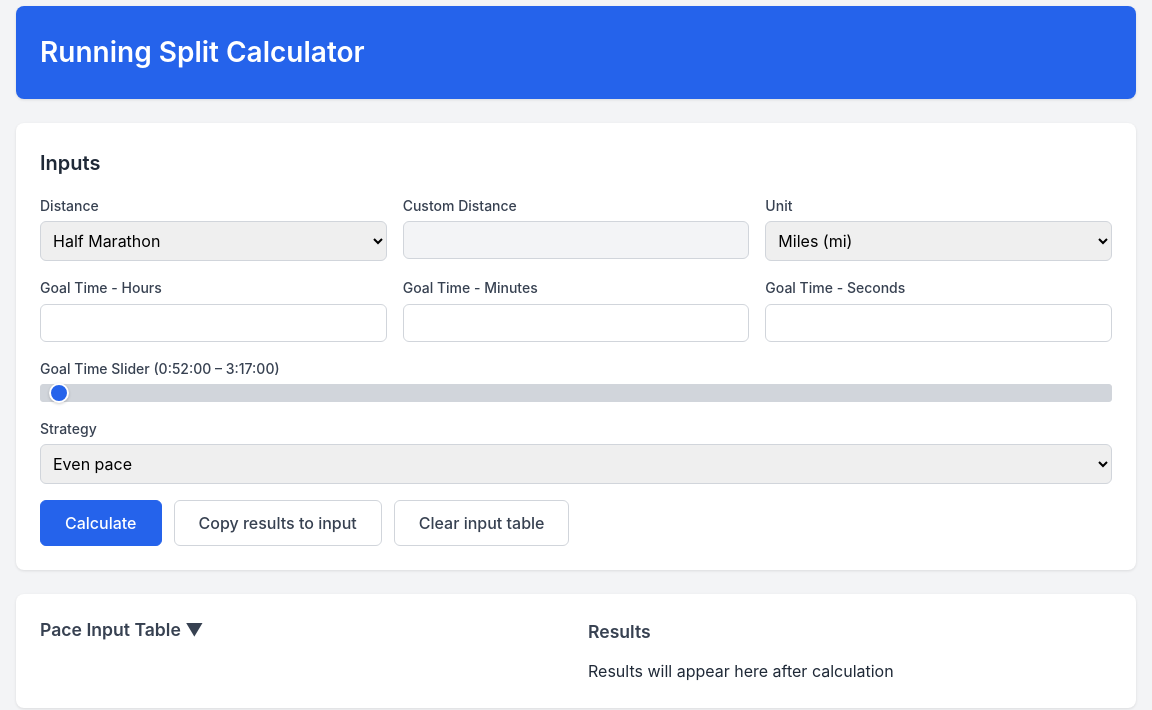
Scenario: UI Input Table › should display split labels
The width and height of the screenshot is (1152, 710).
Select "Kilometers (km)" in the dropdown labelled "Unit": (939, 241) 765,221 -> 1112,261
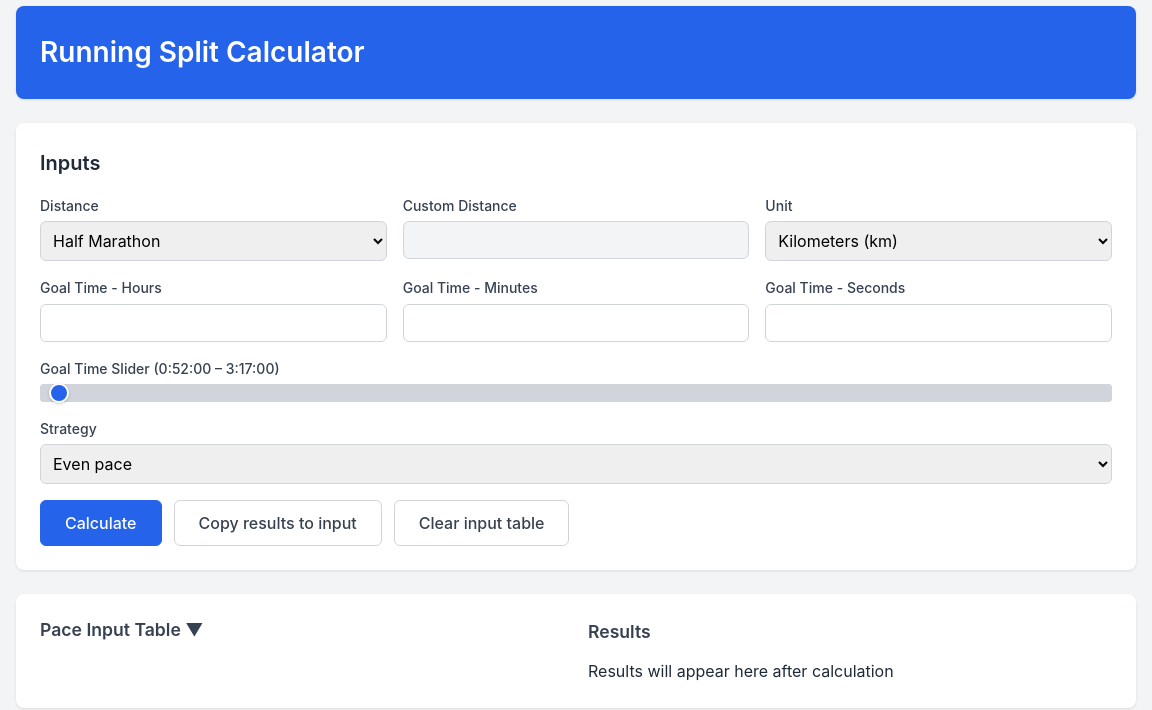
Select "5K" in the dropdown labelled "Distance": (213, 241) 40,221 -> 387,261
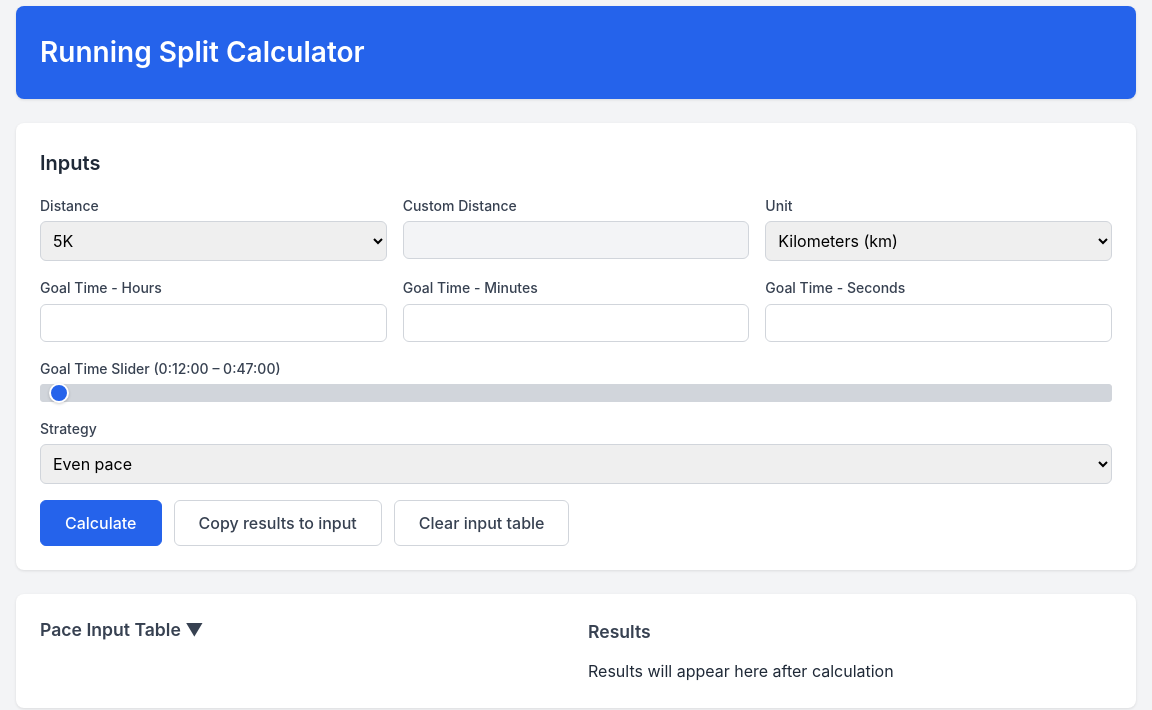
Click the button "Pace Input Table ▼": (113, 630) 40,619 -> 564,652
(page scrolled)
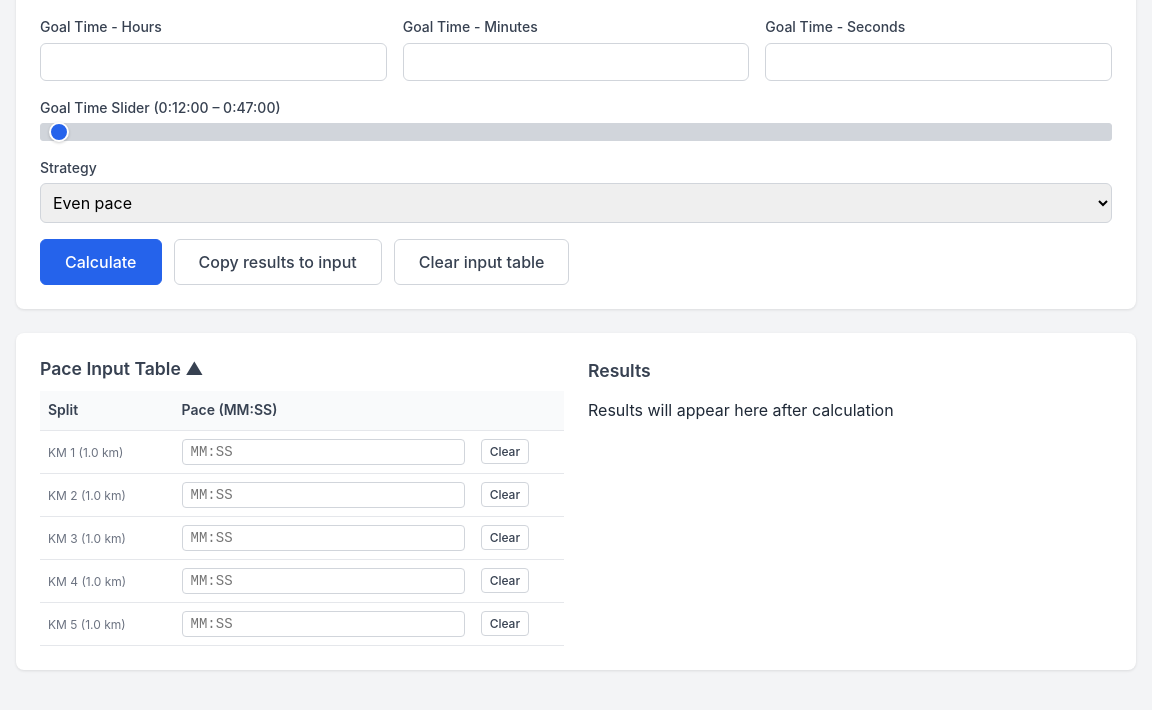
expect the number of elements with class "split-label" is 5: met, box 48,445 -> 123,460; 48,488 -> 126,503; 48,531 -> 126,546; 48,574 -> 126,589; 48,617 -> 126,632
expect the text with class "split-label" shows "KM 1": met, box 48,445 -> 123,460
expect the text with class "split-label" shows "KM 5": met, box 48,617 -> 126,632
